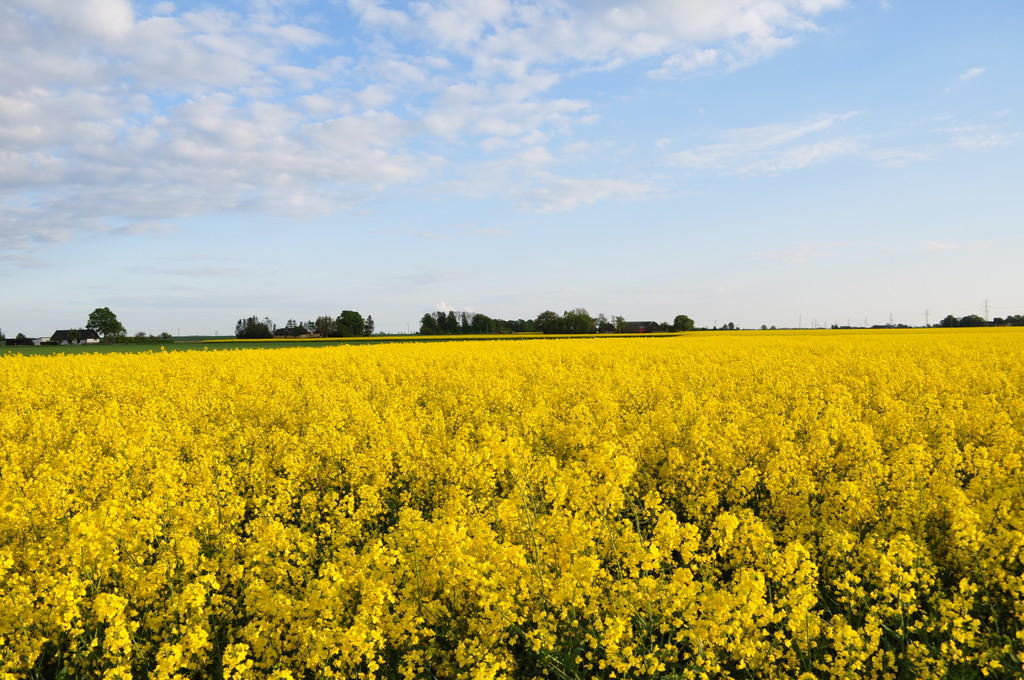Tree: (510, 295, 620, 340), (286, 297, 379, 342), (420, 299, 497, 338), (87, 300, 129, 338), (54, 320, 114, 345), (940, 308, 992, 333), (0, 322, 42, 348), (232, 307, 266, 334), (994, 306, 1023, 329), (672, 307, 693, 332)
